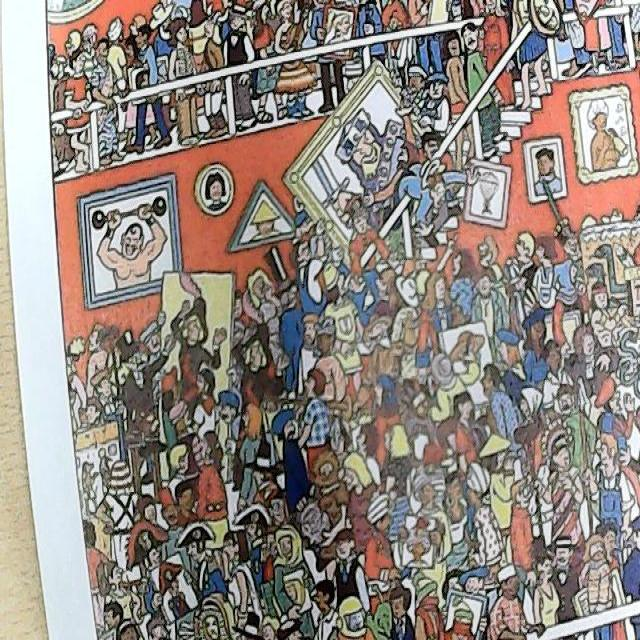waldo: (255, 485, 287, 526)
